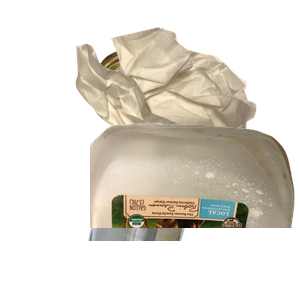glass: (86, 120, 277, 300)
metal: (86, 46, 248, 169)
plastic: (90, 120, 300, 300)
trash: (73, 25, 300, 183)
